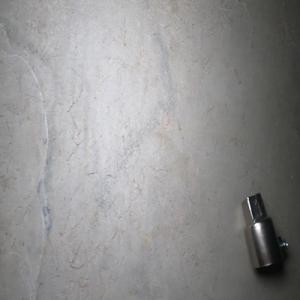MetalPart: (240, 191, 289, 270)
